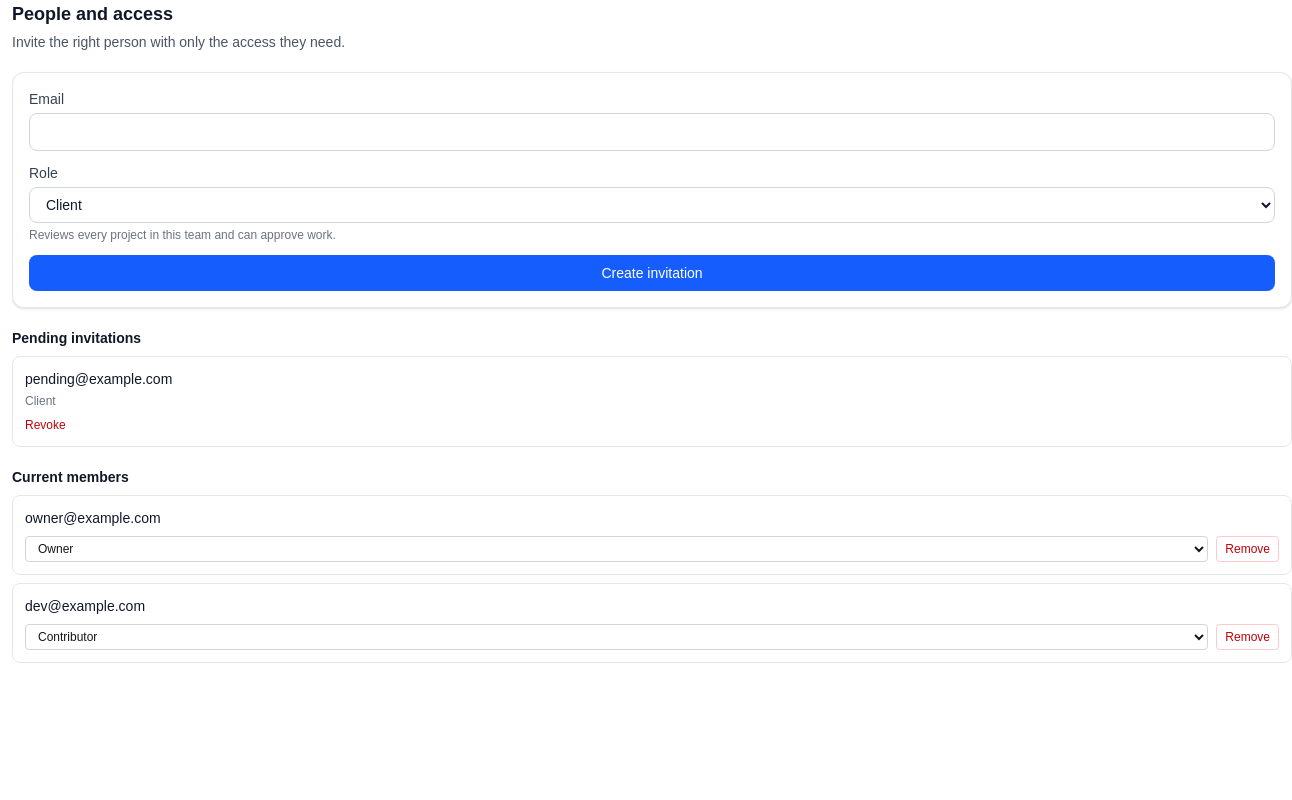
Test: TeamAccessManager › revokes pending invitations and updates or removes current members
Check: the element that starts with "People and access" shows "pending@example.com", box [25, 371, 172, 387]
Click the button with aria-label "Revoke invitation for pending@example.com": (45, 425) [25, 417, 66, 433]
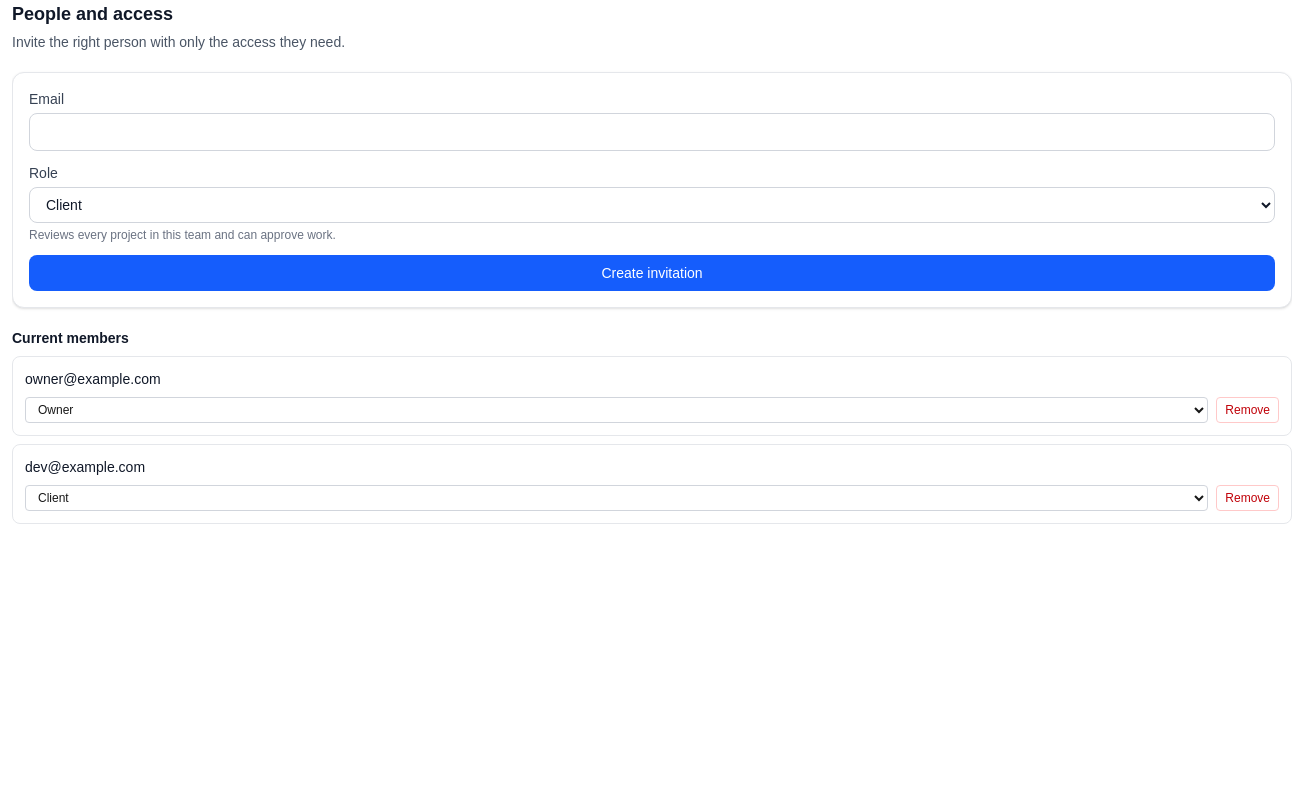
Check: the text "pending@example.com" is gone
Select "Client" in the dropdown named "Role for dev@example.com": (617, 498) [25, 485, 1208, 511]
Select "Client" in the dropdown named "Role for dev@example.com": (617, 498) [25, 485, 1208, 511]
Click the button with aria-label "Remove dev@example.com": (1248, 498) [1216, 485, 1279, 511]
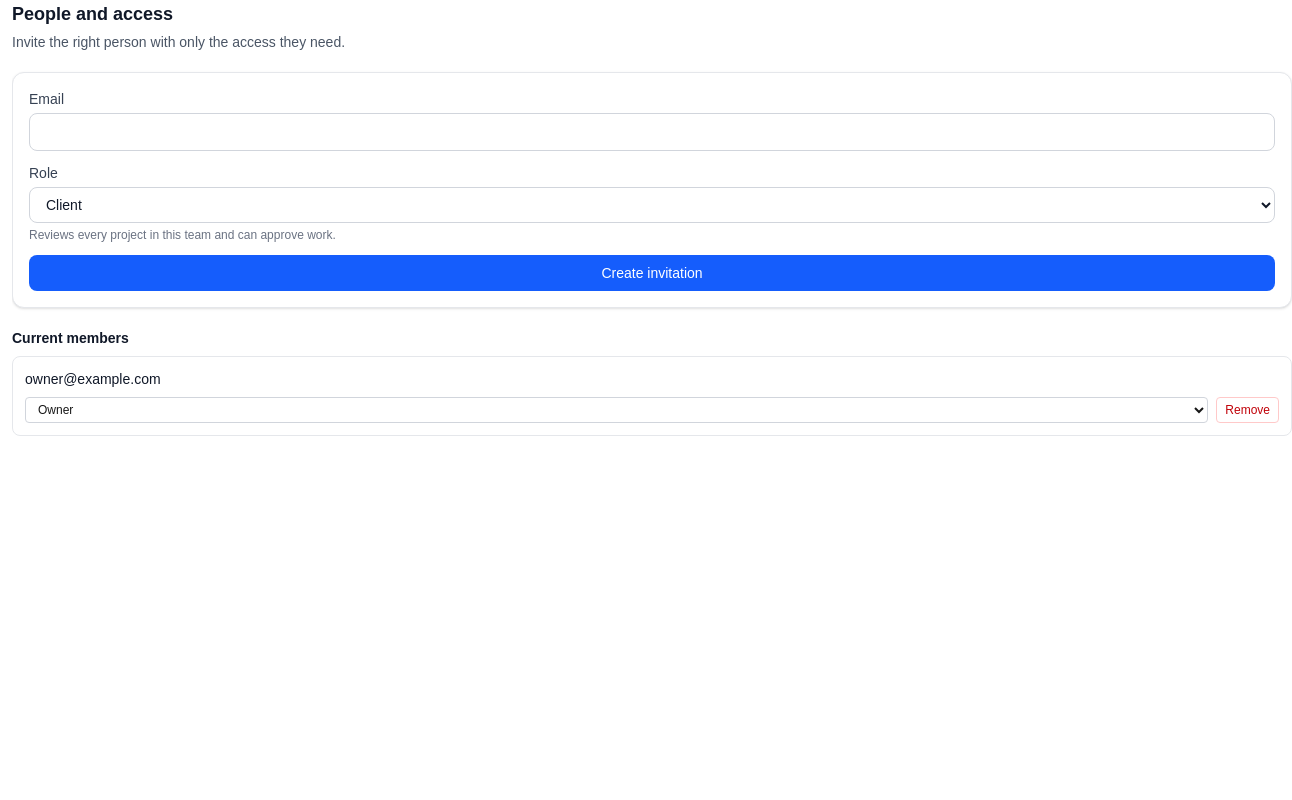
Check: the text "dev@example.com" is gone
